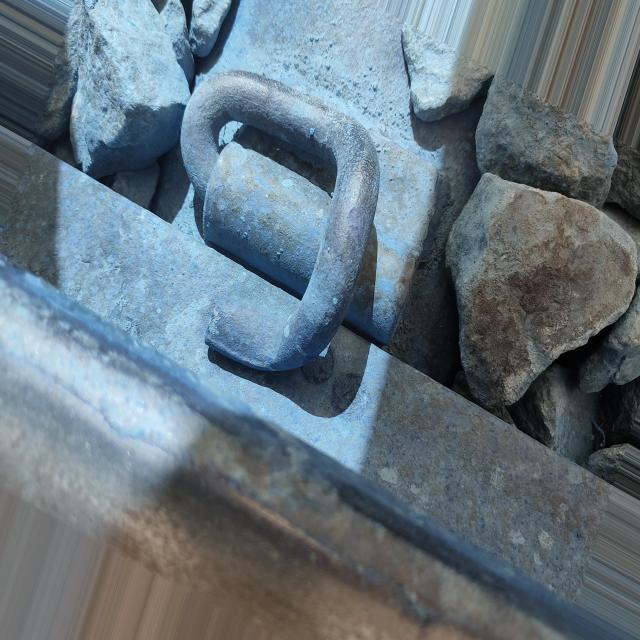Good Fasteners: (181, 71, 438, 371)
